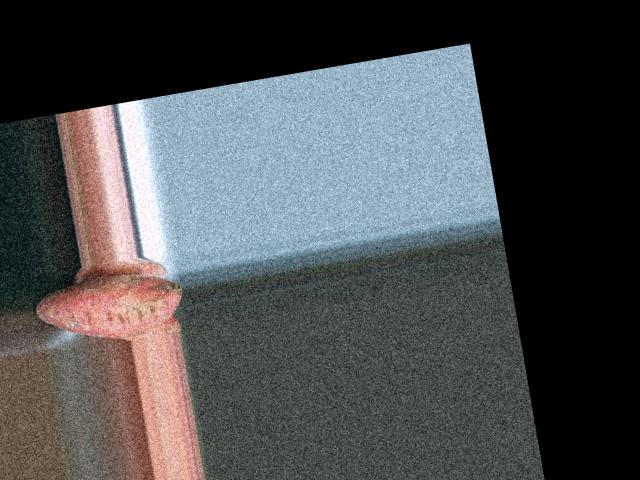sweet_potato: (34, 270, 187, 346)
